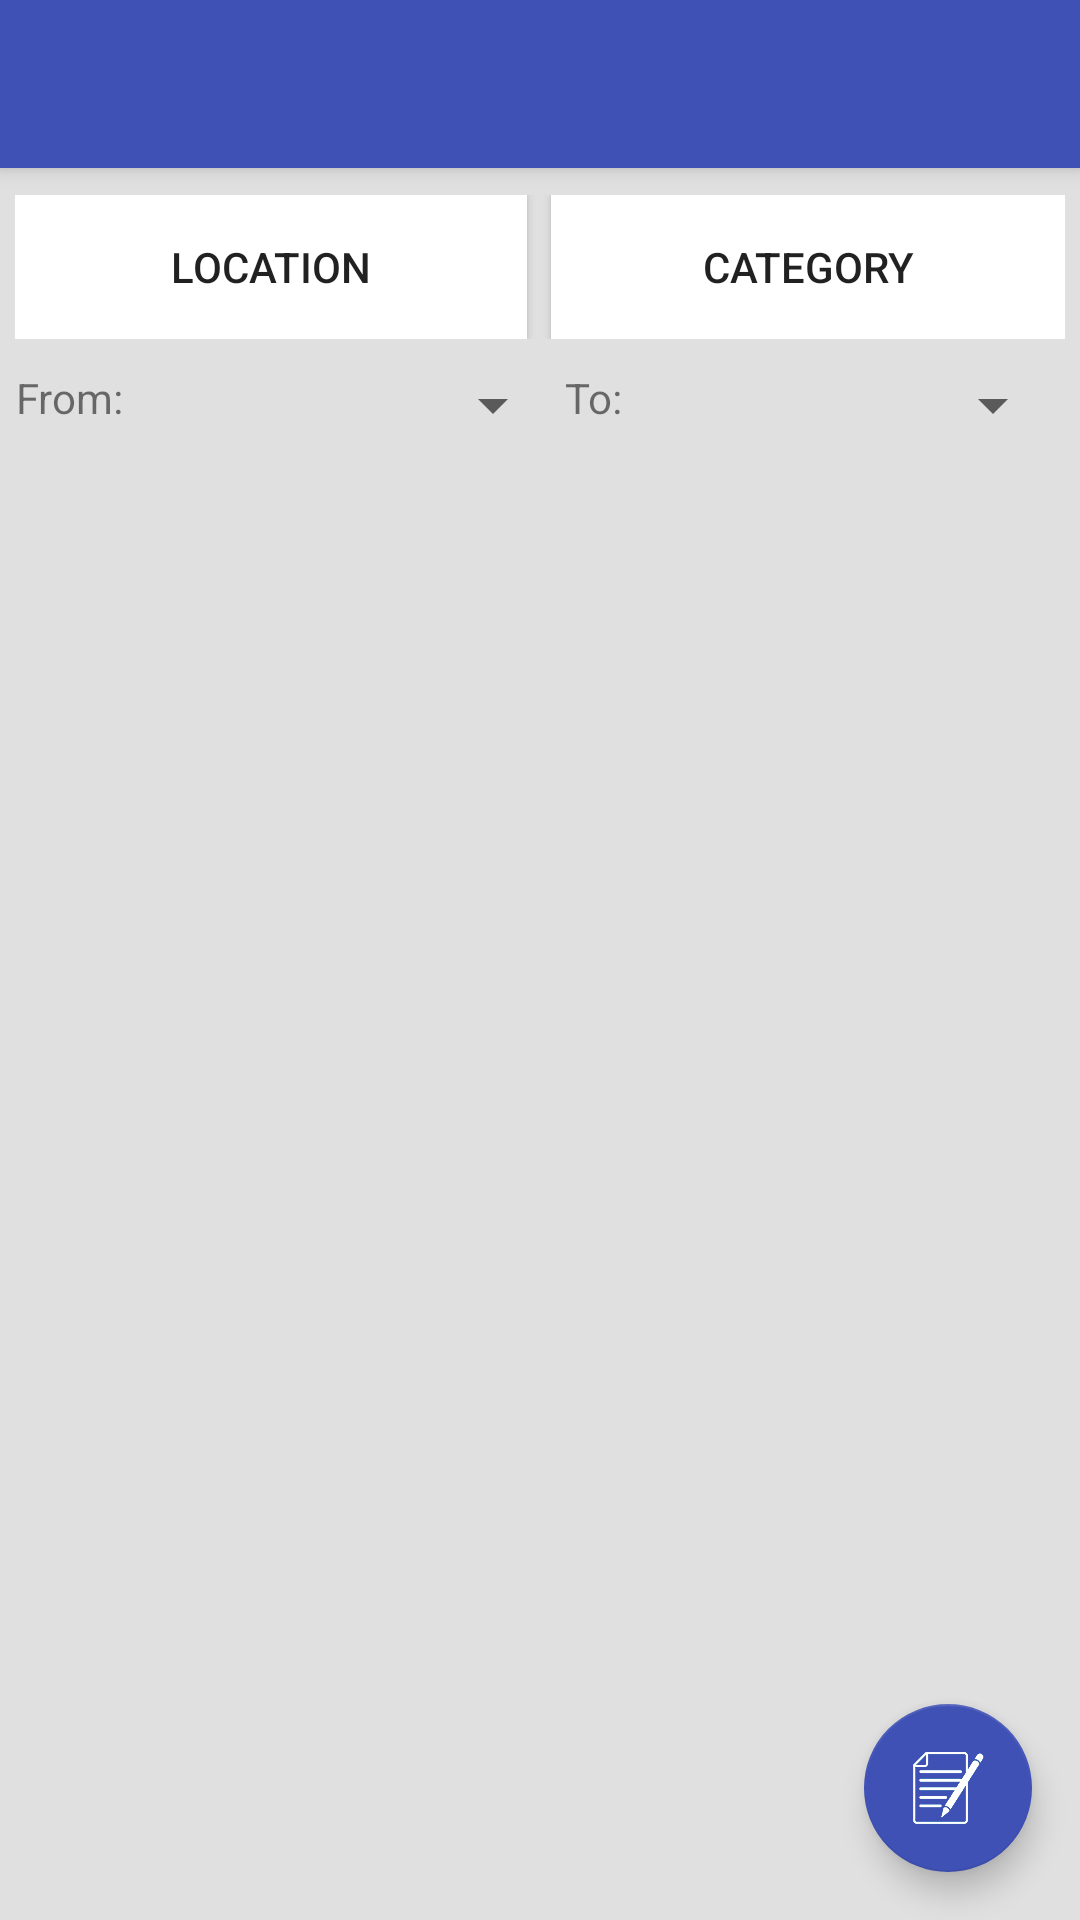

Locate icon controls on the screen. Image size 1080 × 1920, boxes as (x1, y1, x2, y2).
post: (864, 1704, 1032, 1872)
